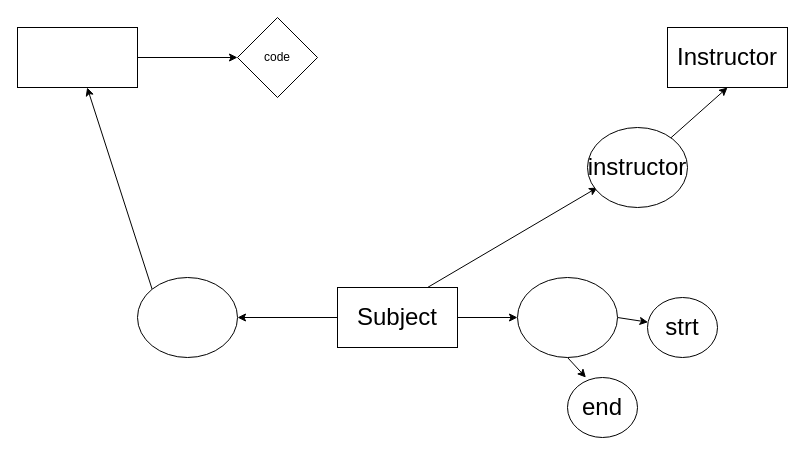
Image size: 805x455. Some labels were removed from this diagram. The centre of each missing label's shape, as x and y in pixels:
"attende" belongs at [187,317].
"Student" belongs at [77,57].
"time" belongs at [567,317].
